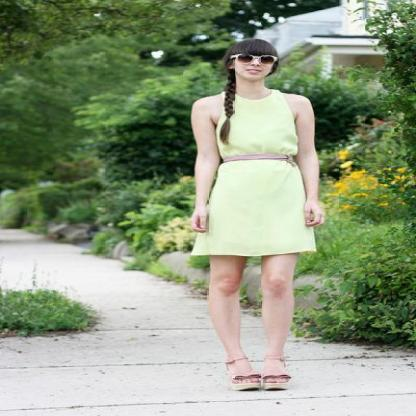dress: (192, 92, 316, 255)
shoe: (228, 374, 290, 392)
sunglass: (238, 50, 278, 74)
